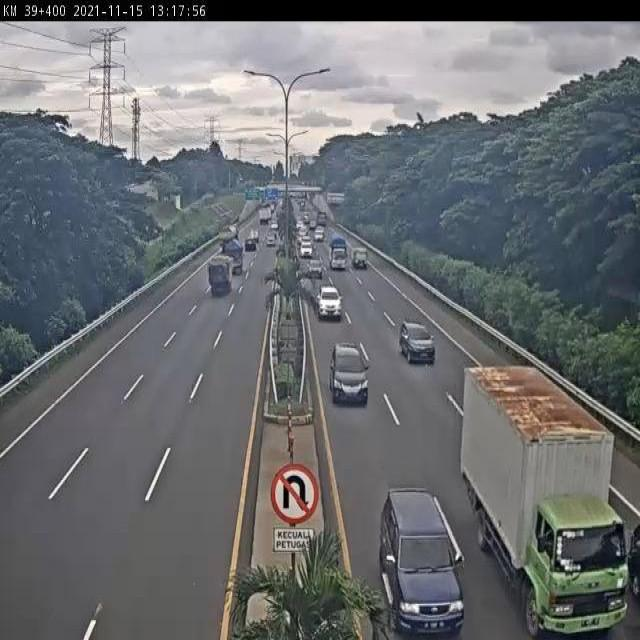car: (378, 484, 466, 640), (327, 340, 371, 408), (397, 318, 438, 366), (315, 281, 343, 323), (307, 256, 325, 279)
truck-m-: (462, 366, 631, 638), (207, 254, 231, 294), (221, 239, 245, 276)
